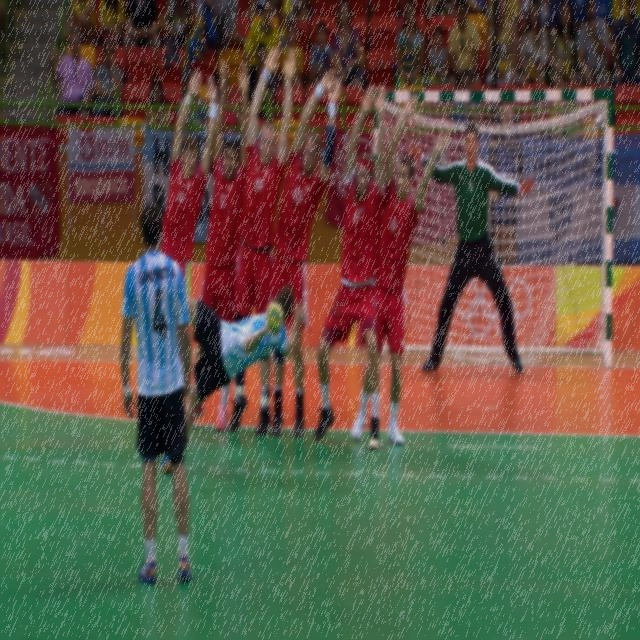pessoa: (349, 90, 451, 448), (404, 124, 535, 374), (118, 202, 194, 586), (158, 281, 308, 475), (312, 81, 387, 452), (229, 43, 298, 437), (270, 64, 342, 438), (188, 56, 250, 434), (160, 68, 218, 294), (488, 101, 524, 258), (206, 70, 242, 212), (54, 30, 94, 119), (486, 0, 520, 90), (576, 0, 612, 85), (332, 0, 365, 84), (549, 0, 579, 91), (519, 0, 550, 85), (612, 0, 639, 86), (95, 38, 124, 118), (248, 42, 276, 124), (198, 0, 239, 55), (176, 68, 209, 134), (308, 22, 342, 85), (63, 0, 99, 54), (123, 0, 161, 50), (448, 70, 481, 124), (162, 0, 198, 49), (98, 0, 124, 67), (280, 19, 304, 86), (426, 24, 450, 86), (145, 79, 171, 131), (240, 0, 310, 15)
